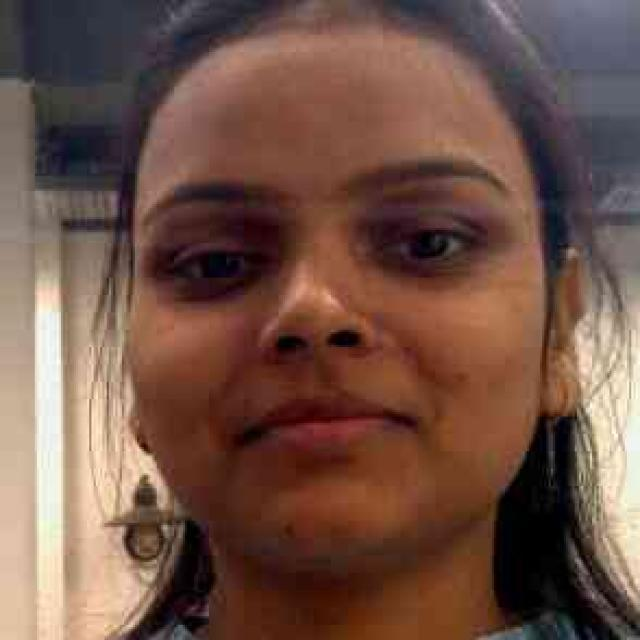Puffy Eyes - v3 Dark Circle: (374, 256, 481, 290), (164, 274, 272, 307)
